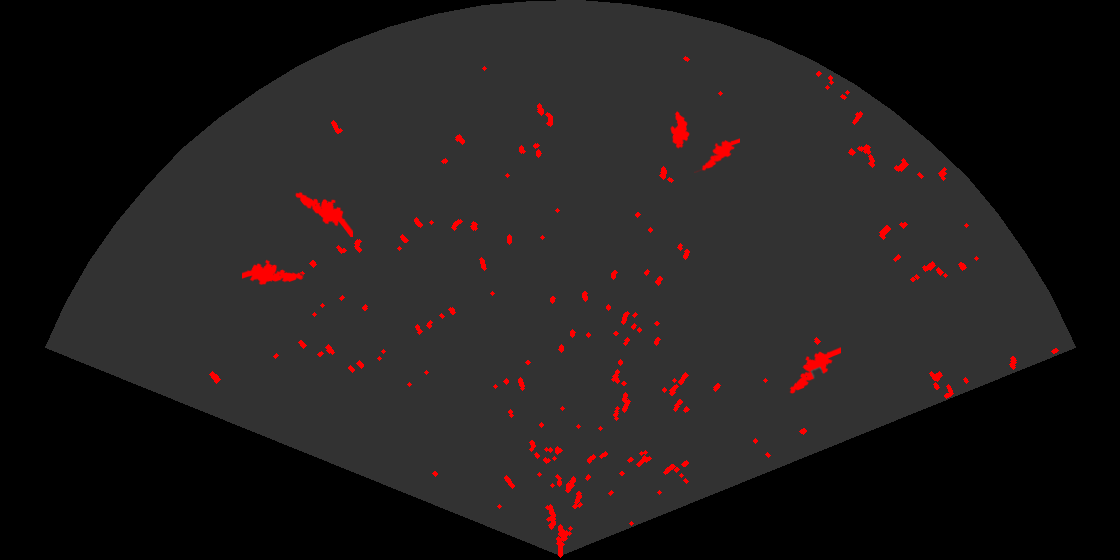AUV: (669, 109, 691, 150)
frogman: (294, 190, 353, 237), (788, 345, 841, 395), (242, 258, 304, 287), (694, 137, 740, 173)
